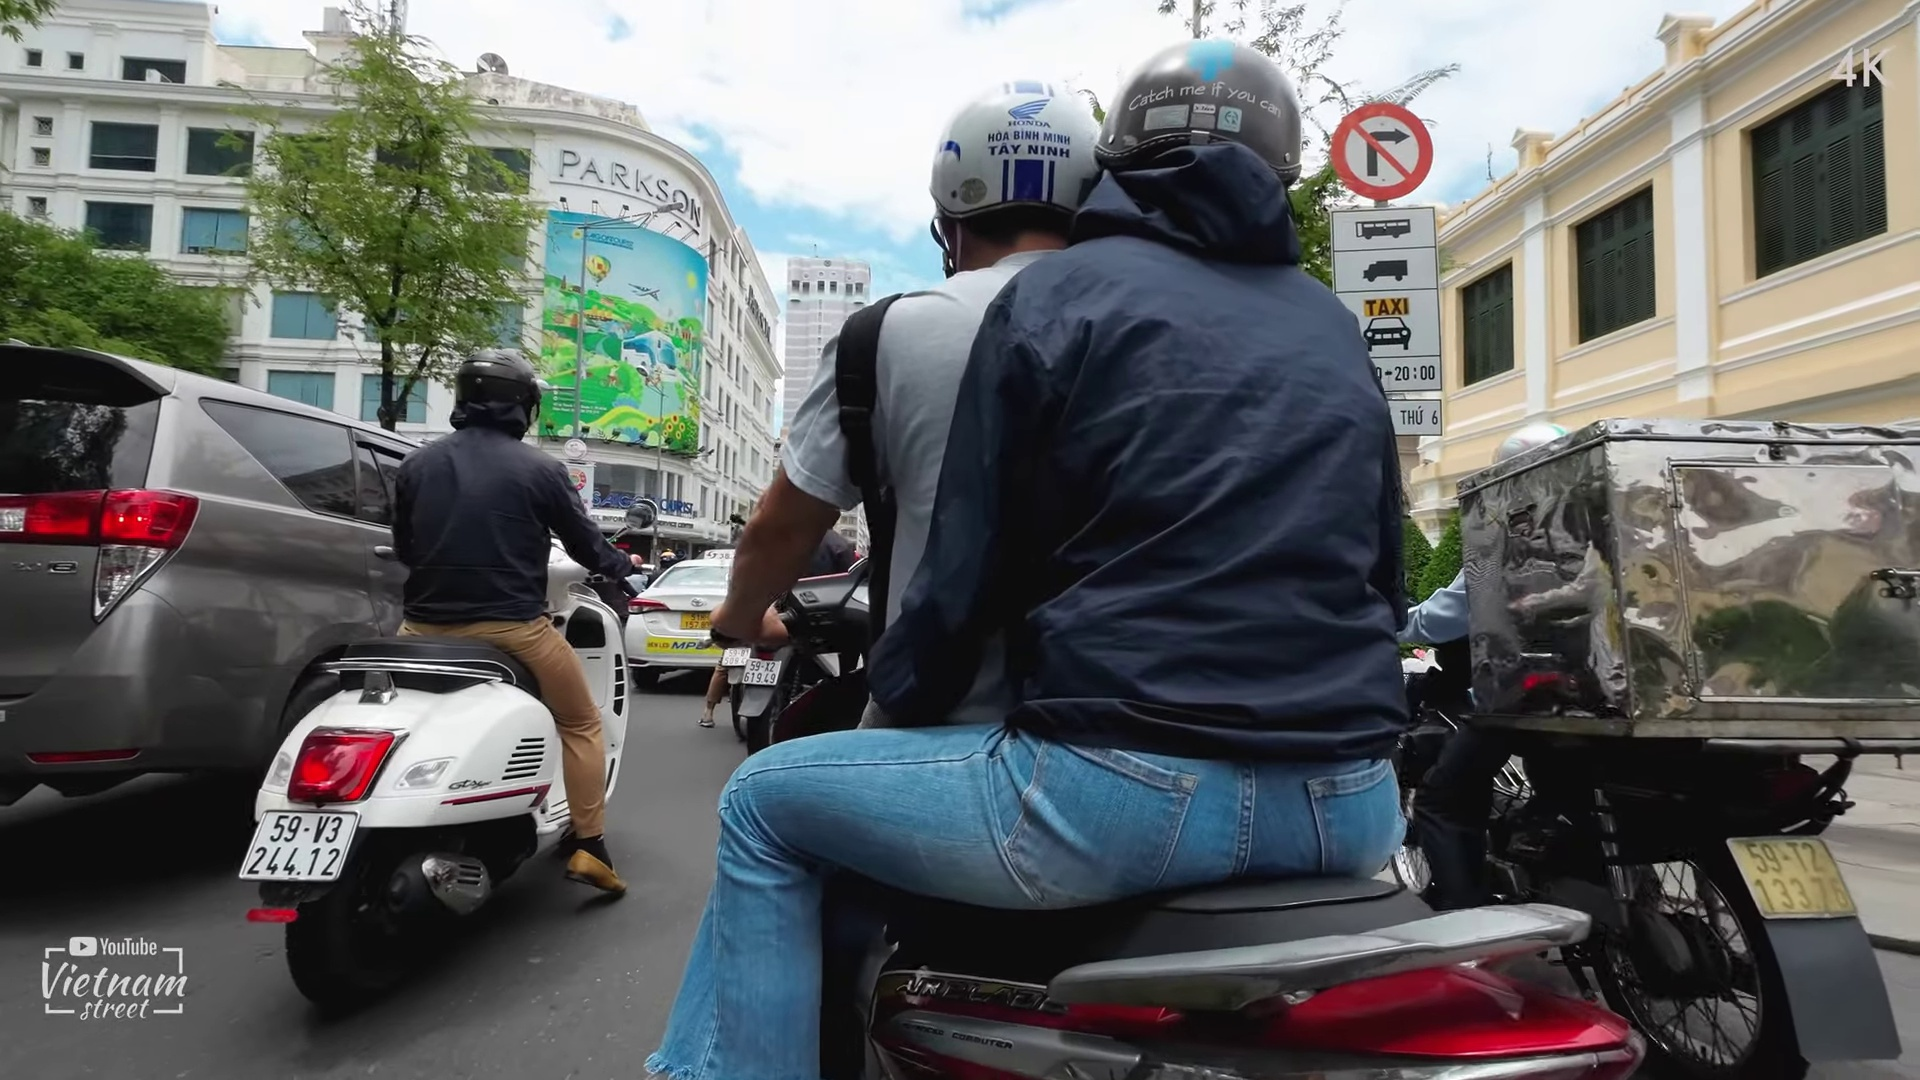cam_re_phai: (1323, 95, 1440, 204)
